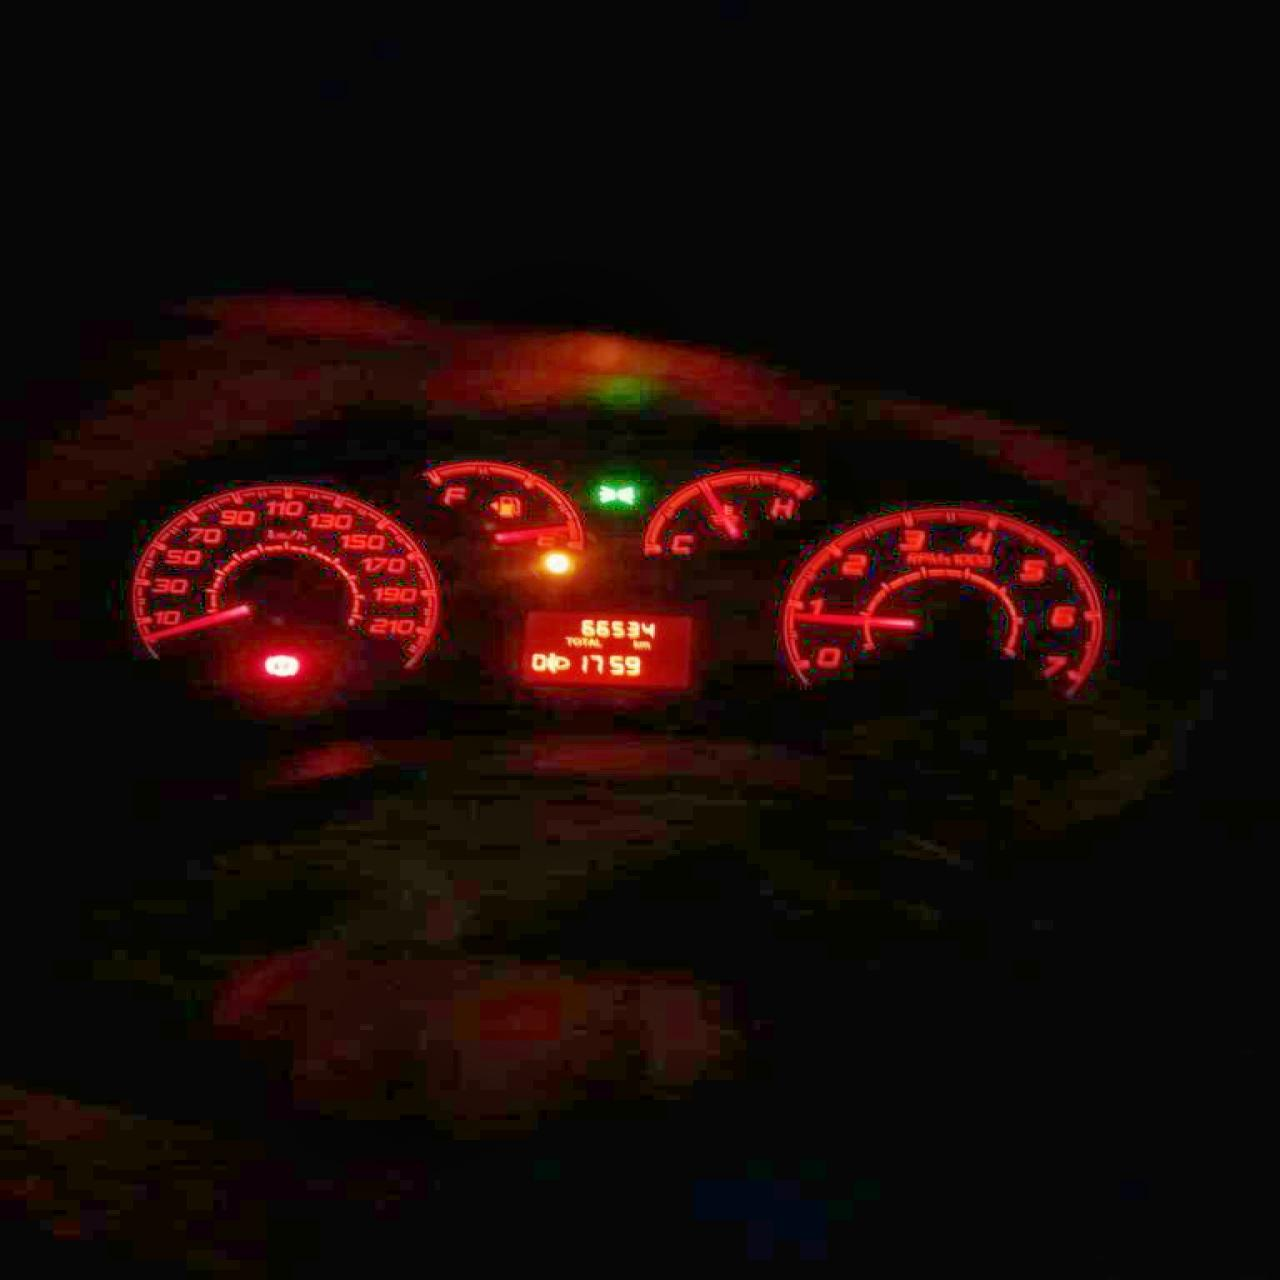0: (530, 651, 545, 671)
1: (580, 654, 587, 674)
3: (625, 619, 638, 636)
4: (638, 620, 655, 638)
5: (607, 654, 623, 675), (610, 618, 623, 638)
6: (578, 617, 594, 635), (595, 618, 610, 636)
7: (588, 652, 604, 674)
9: (623, 654, 640, 675)
X: (638, 639, 652, 650), (562, 635, 572, 646), (593, 638, 602, 648), (572, 635, 580, 646), (580, 635, 587, 646), (587, 636, 593, 648), (632, 638, 638, 648)
odometer: (512, 606, 696, 690)
